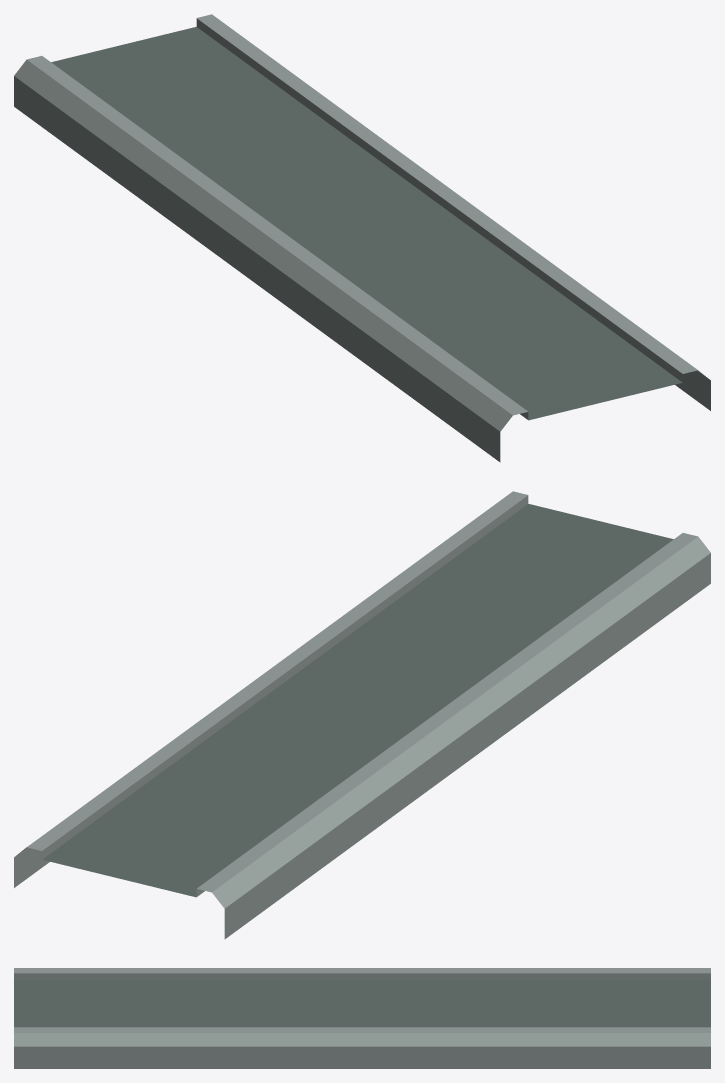
Rendered from PG_Divider.fbx.
3 views of the same model, one above another, from view 1: azimuth 30°, elevation 25°; view 2: azimuth 150°, elevation 25°; view 3: azimuth 270°, elevation 25° (orthographic). The views are drawn at different scales.
Parts seen in each view (by area): view 1: PG_Walk; view 2: PG_Walk; view 3: PG_Walk.
Part boxes in pixels (<box>): PG_Walk: <box>14,14,710,462</box>; PG_Walk: <box>14,491,710,939</box>; PG_Walk: <box>14,968,710,1068</box>.
Size of the model in its own units: 100 by 20 by 400.
